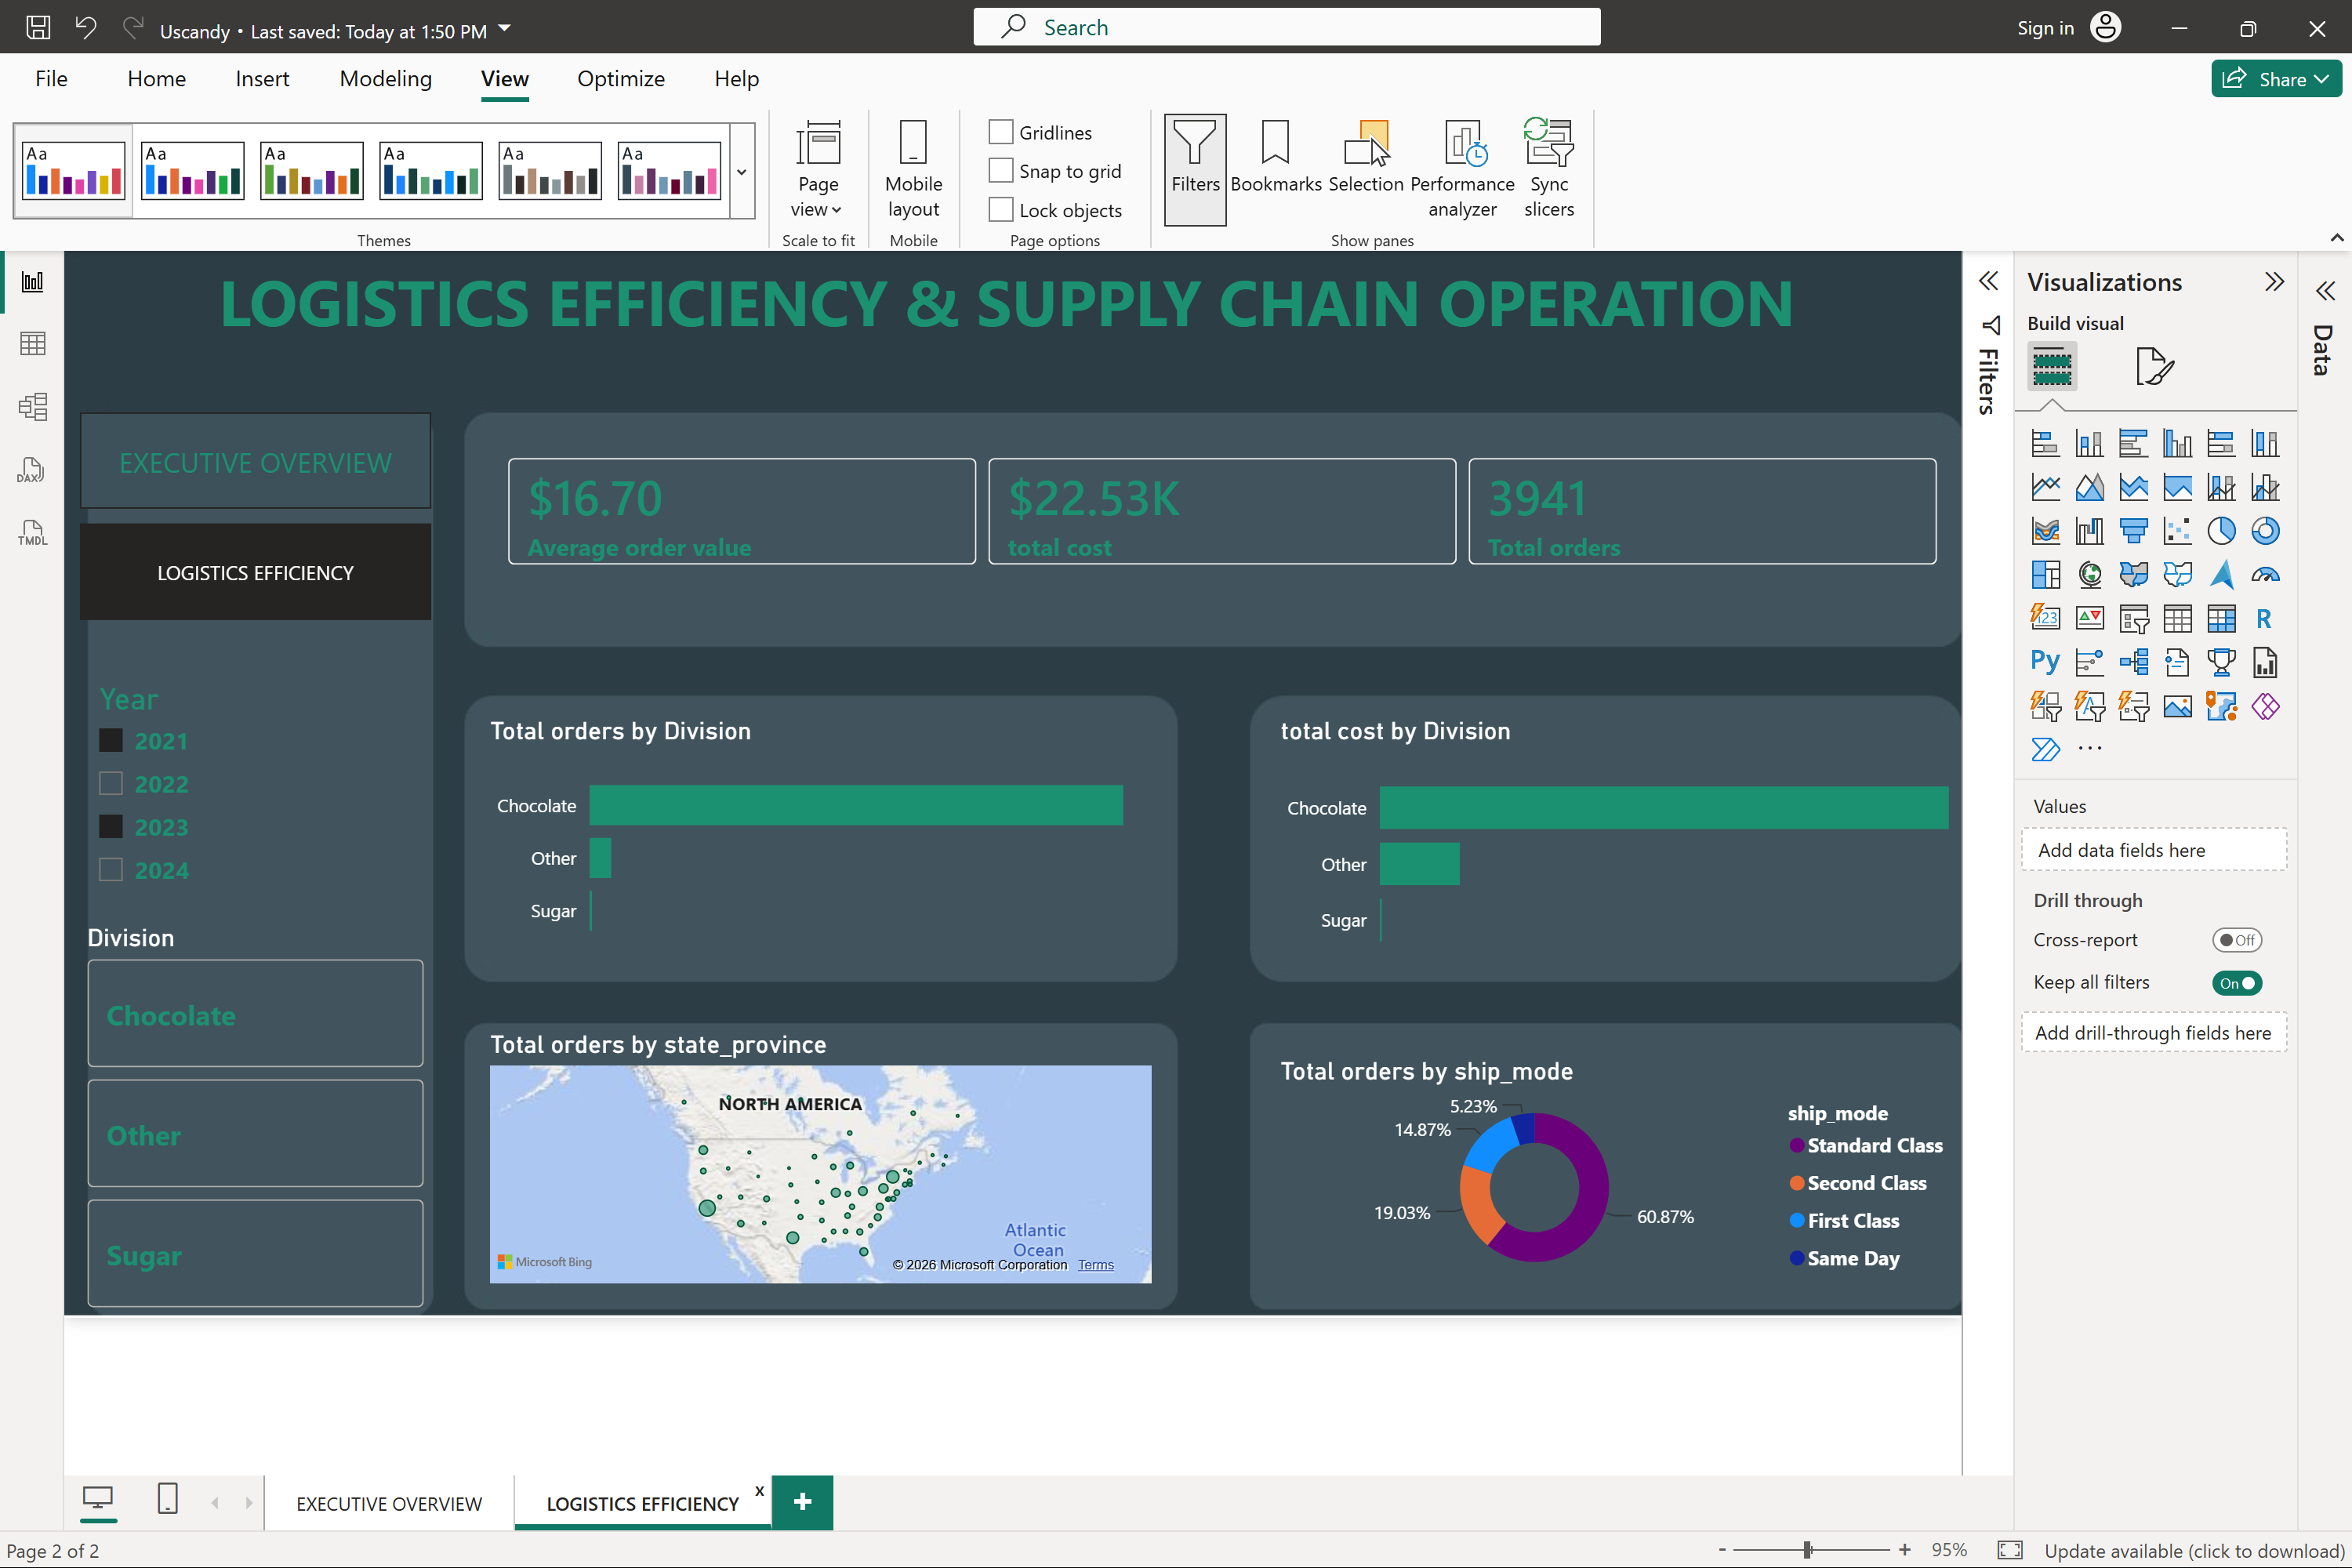

This screenshot's page, from the dashboard's own definition file:
{"tool":"powerbi","page":{"name":"LOGISTICS EFFICIENCY","canvas":[1280,720],"ordinal":1},"visuals":[{"type":"cardVisual","fields":{"Data":["_Measures.Average order value","_Measures.total cost","_Measures.Total orders"]},"box":[282.7,122.7,1000,106.7],"z":0},{"type":"clusteredBarChart","fields":{"Y":["_Measures.Total orders"],"Category":["Candy_Targets.Division"]},"box":[282.7,314.7,458.7,165.3],"z":1000},{"type":"clusteredBarChart","fields":{"Y":["_Measures.total cost"],"Category":["Candy_Targets.Division"]},"box":[816,314.7,466.7,173.3],"z":2000},{"type":"map","fields":{"Size":["_Measures.Total orders"],"Category":["Dim_customer.state_province"]},"box":[282.7,525.3,456,176],"z":3000},{"type":"donutChart","fields":{"Category":["fact_sales.ship_mode"],"Y":["_Measures.Total orders"]},"box":[816,544,466.7,157.3],"z":4000},{"type":"textbox","box":[0,0,1272,98.7],"z":6001},{"type":"slicer","fields":{"Values":["Dime_date.Year"]},"box":[10.7,285.3,240,152],"z":6003},{"type":"advancedSlicerVisual","fields":{"Values":["Candy_Targets.Division"]},"box":[10.7,453.3,237.3,266.7],"z":6004},{"type":"pageNavigator","box":[10.7,109.3,237.3,141.3],"z":6005}]}

Visuals, with their boxes on the page's 1280x720 design canvas (x1, y1, x2, y2). These are canvas units, not pixel positions in the 2352x1568 screenshot, which may show the page scaled, cropped or inside an application window:
cardVisual - _Measures.Average order value x _Measures.total cost: rect(283, 123, 1283, 229)
clusteredBarChart - _Measures.Total orders x Candy_Targets.Division: rect(283, 315, 741, 480)
clusteredBarChart - _Measures.total cost x Candy_Targets.Division: rect(816, 315, 1283, 488)
map - _Measures.Total orders x Dim_customer.state_province: rect(283, 525, 739, 701)
donutChart - fact_sales.ship_mode x _Measures.Total orders: rect(816, 544, 1283, 701)
textbox: rect(0, 0, 1272, 99)
slicer - Dime_date.Year: rect(11, 285, 251, 437)
advancedSlicerVisual - Candy_Targets.Division: rect(11, 453, 248, 720)
pageNavigator: rect(11, 109, 248, 251)
